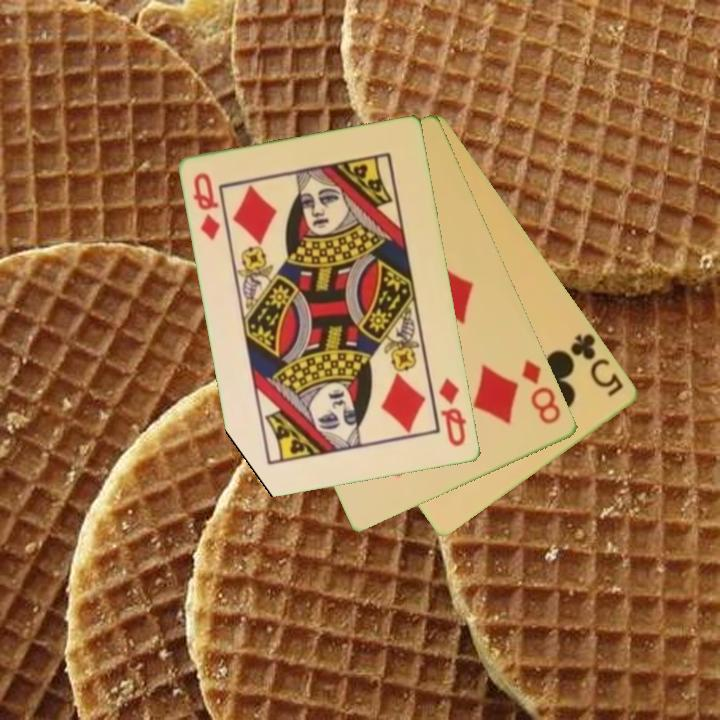5c: (567, 330, 627, 400)
8d: (518, 356, 564, 428)
Qd: (436, 374, 470, 450), (190, 169, 224, 243)
